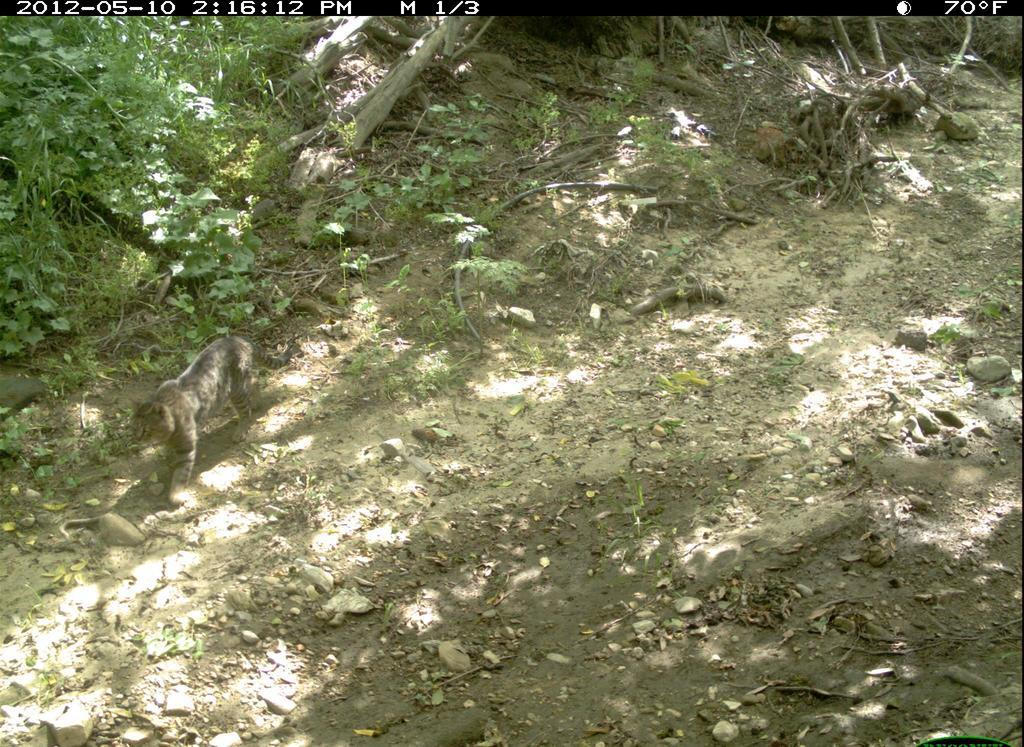cat: (117, 333, 271, 505)
